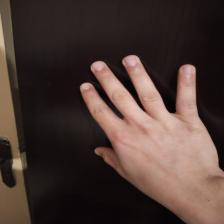five: (74, 51, 214, 185)
